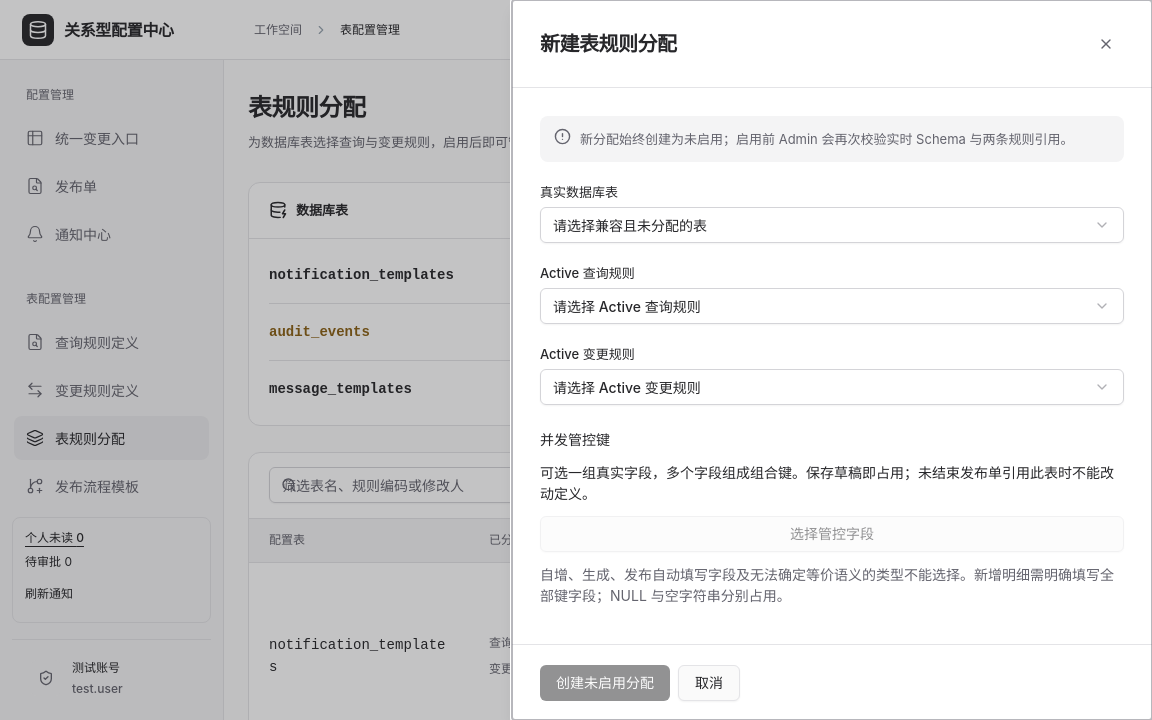
Test: 表规则分配页面 › manually replays the original create request after response loss
Select "message_templates · 消息模板" in the dropdown labelled "真实数据库表" at (832, 225), box [540, 207, 1124, 243]
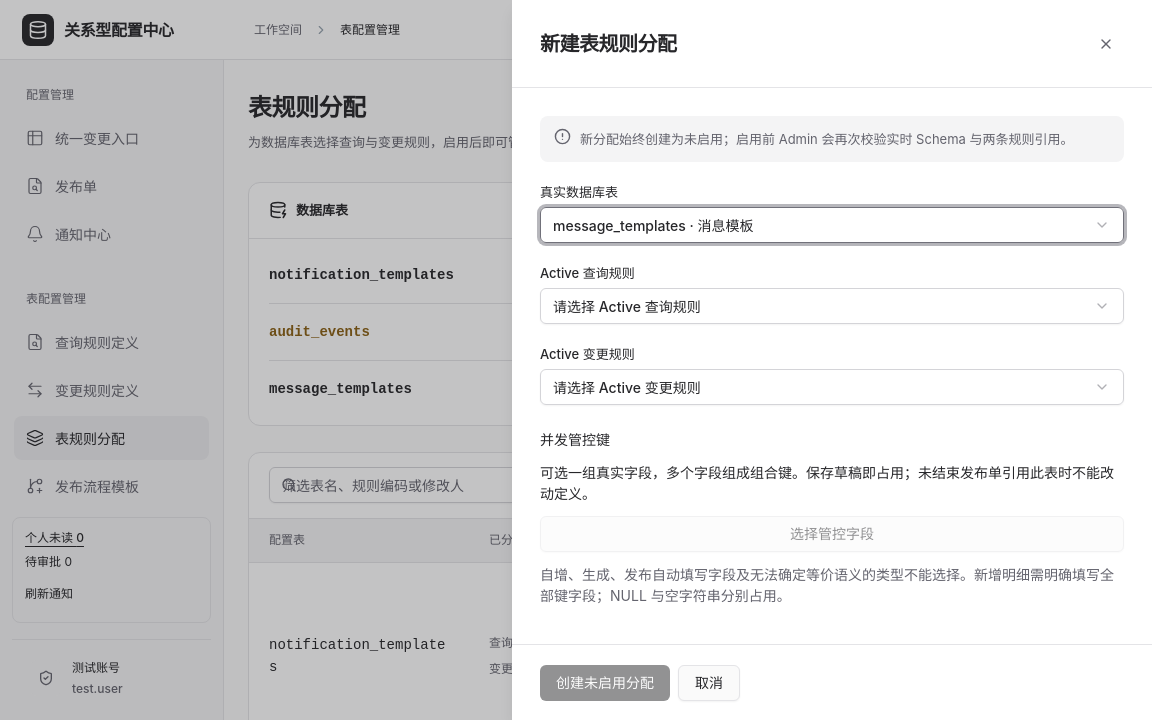
Select "standard_page_query_v1 · 标准分页" in the dropdown labelled "Active 查询规则" at (832, 306), box [540, 288, 1124, 324]
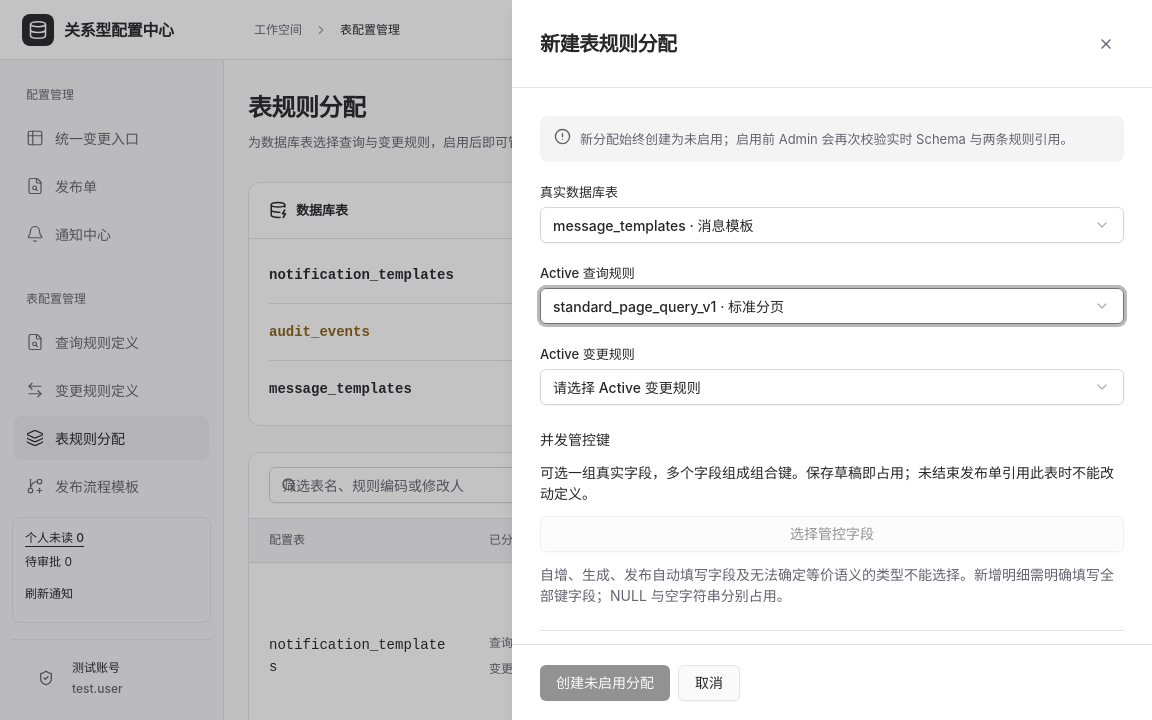
Select "standard_mutation_v1 · 标准变更" in the dropdown labelled "Active 变更规则" at (832, 387), box [540, 369, 1124, 405]
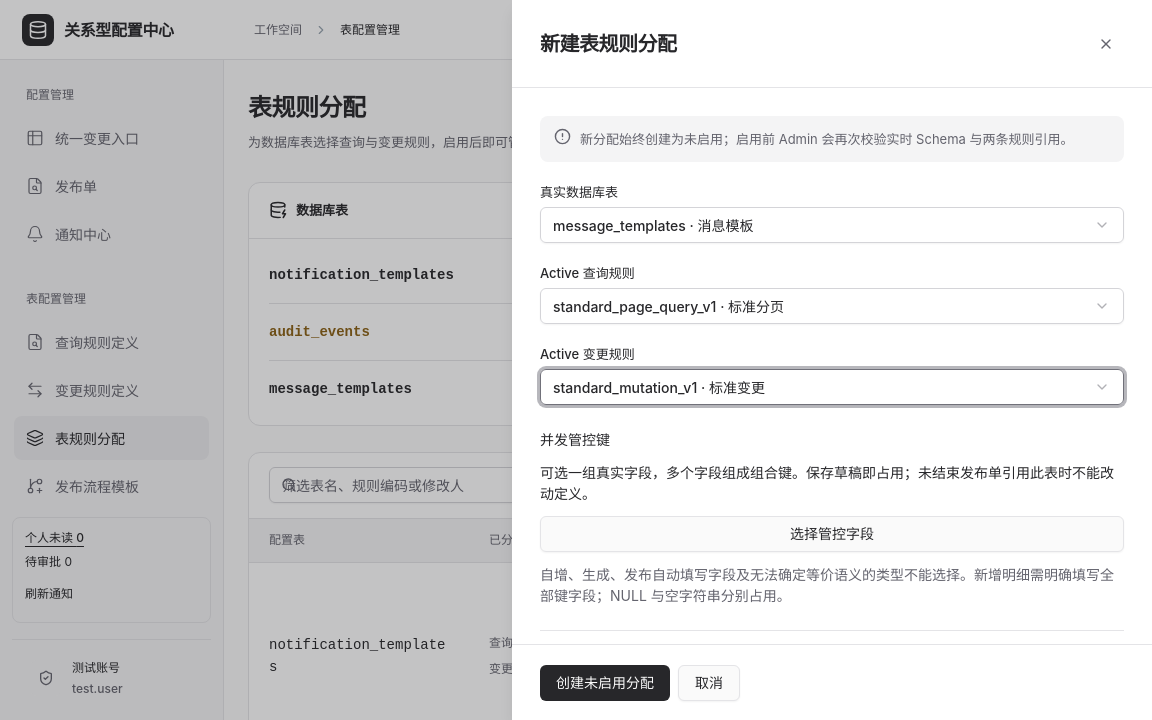
Click the button "创建未启用分配" at (605, 682), box [540, 664, 670, 700]
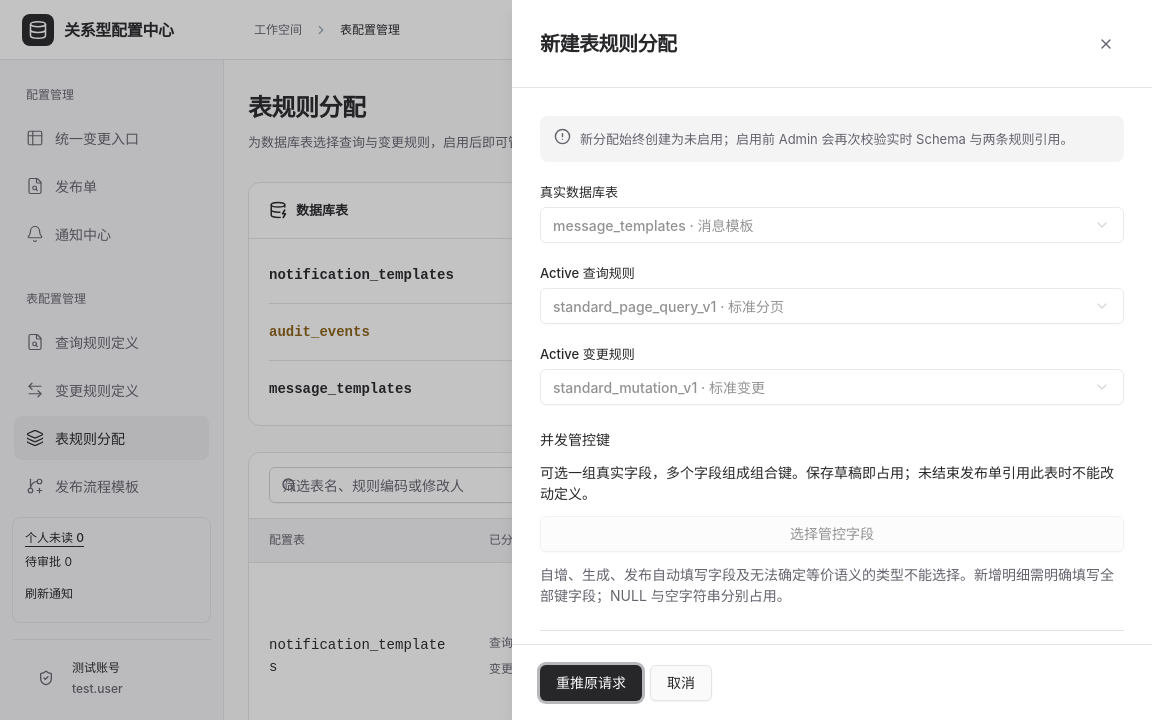
Expected: the dropdown labelled "真实数据库表" is disabled, [540, 207, 1124, 243]
Click the button "重推原请求" at (591, 682), box [540, 664, 642, 700]
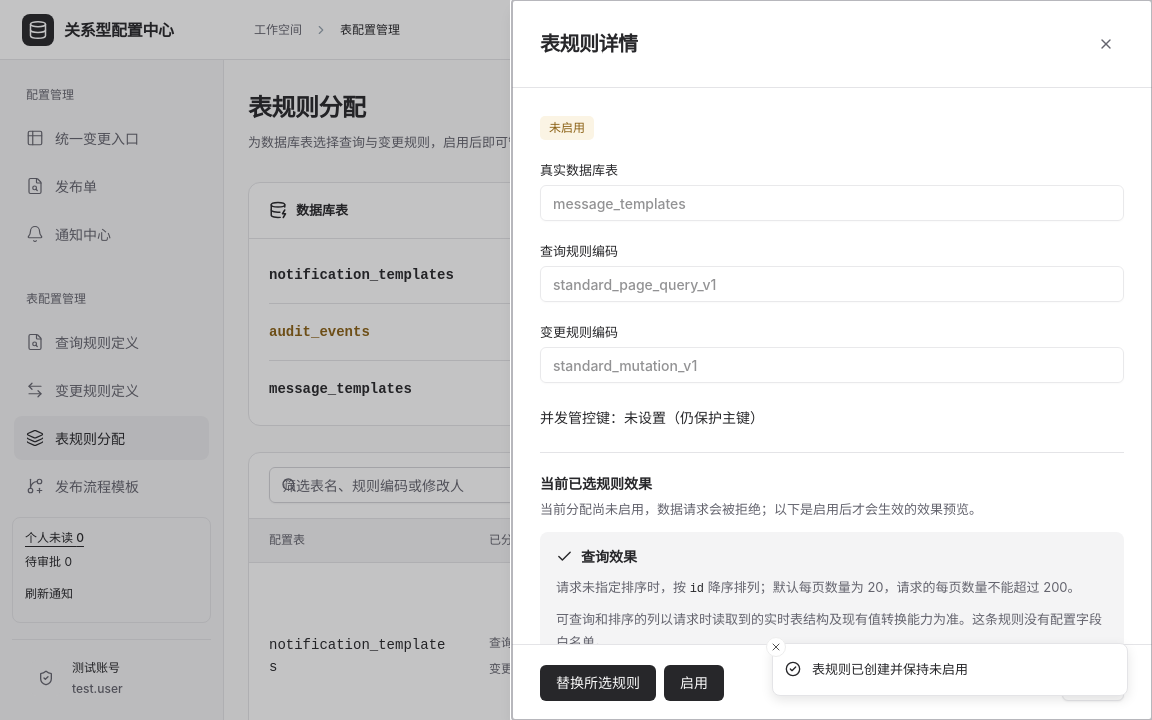
Expected: the text "表规则已创建并保持未启用" is shown, [812, 660, 968, 679]
